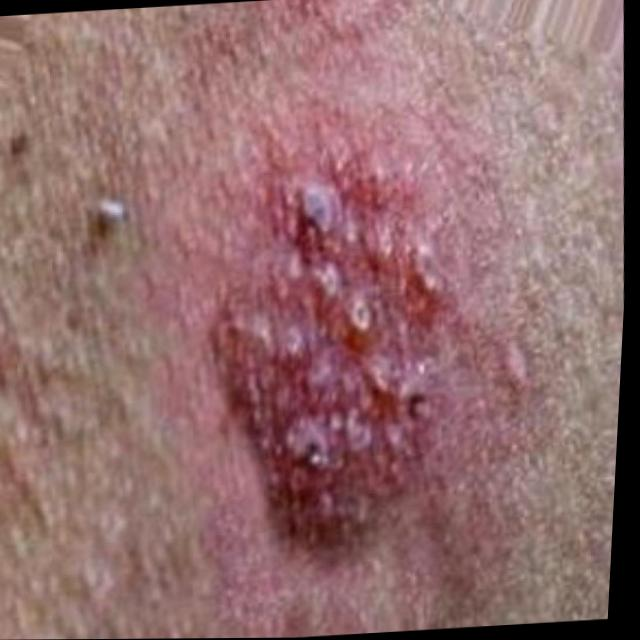Shingles: (186, 163, 476, 560)
